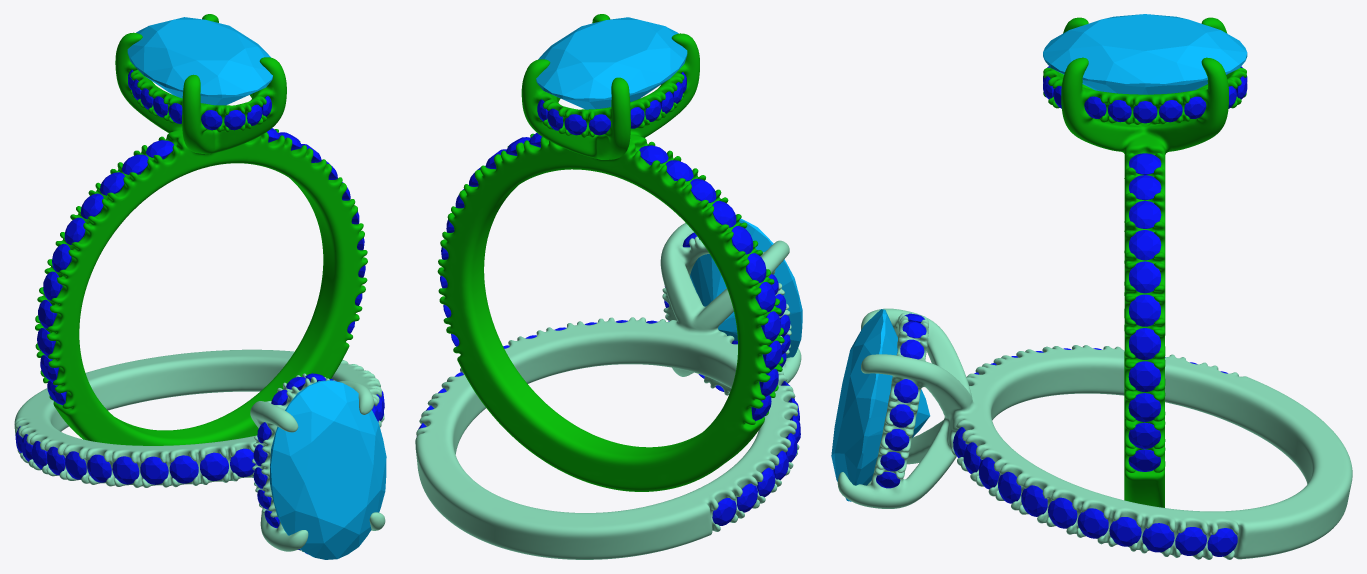
The model's file is 2rings.glb.
The picture shows the model from 3 angles, left to right: view 1: azimuth 30°, elevation 25°; view 2: azimuth 150°, elevation 25°; view 3: azimuth 270°, elevation 25°; orthographic projection. The views are drawn at different scales.
Parts seen in each view (by area): view 1: 2rings3dm; view 2: 2rings3dm; view 3: 2rings3dm.
Boxes of the visible parts, left/top/right/bottom form: 2rings3dm: left=14, top=14, right=386, bottom=559; 2rings3dm: left=415, top=14, right=802, bottom=559; 2rings3dm: left=831, top=14, right=1352, bottom=559.
Size of the model in its own units: 1.95 by 2.46 by 2.48.
